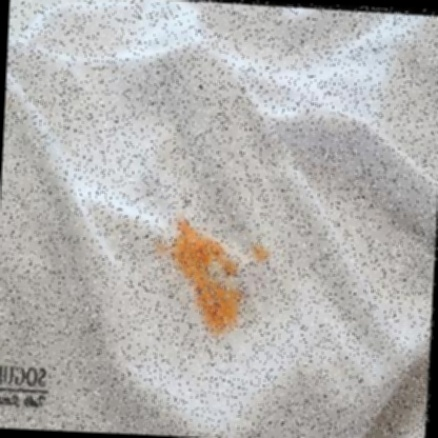kimchi: (147, 215, 248, 341), (254, 235, 273, 270)
